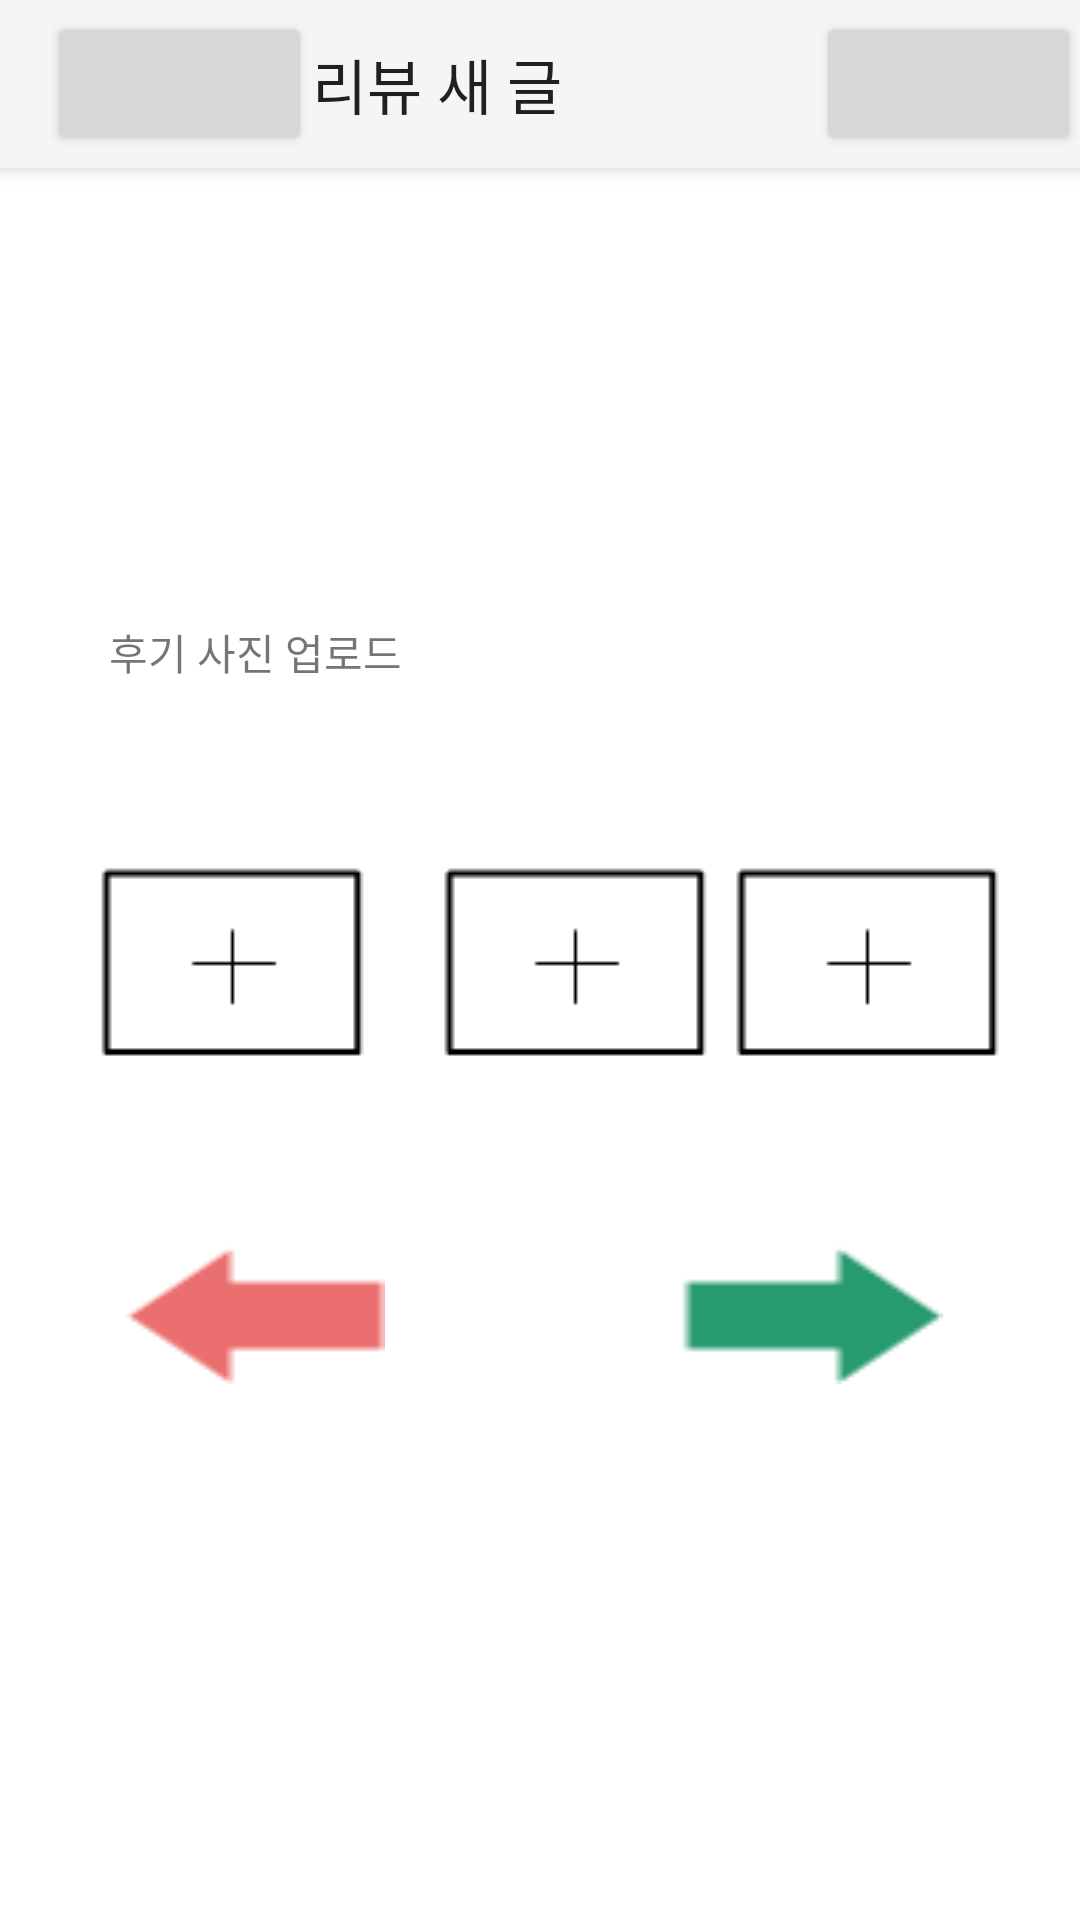

Icons on this 1080px×1920px Android screen, each with its box as (x1, y1, x2, y2):
before: (128, 1250, 385, 1384)
next: (683, 1250, 943, 1384)
pictureupload: (101, 868, 363, 1056), (444, 868, 706, 1056), (736, 868, 998, 1056)
